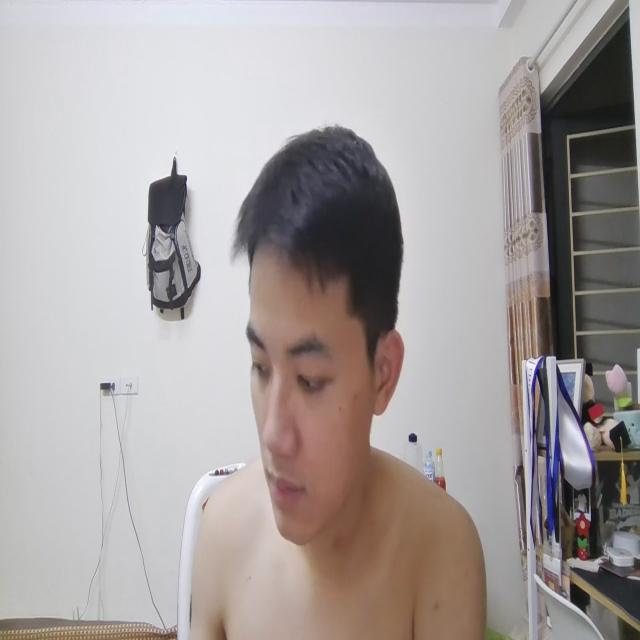student: (192, 117, 483, 640)
